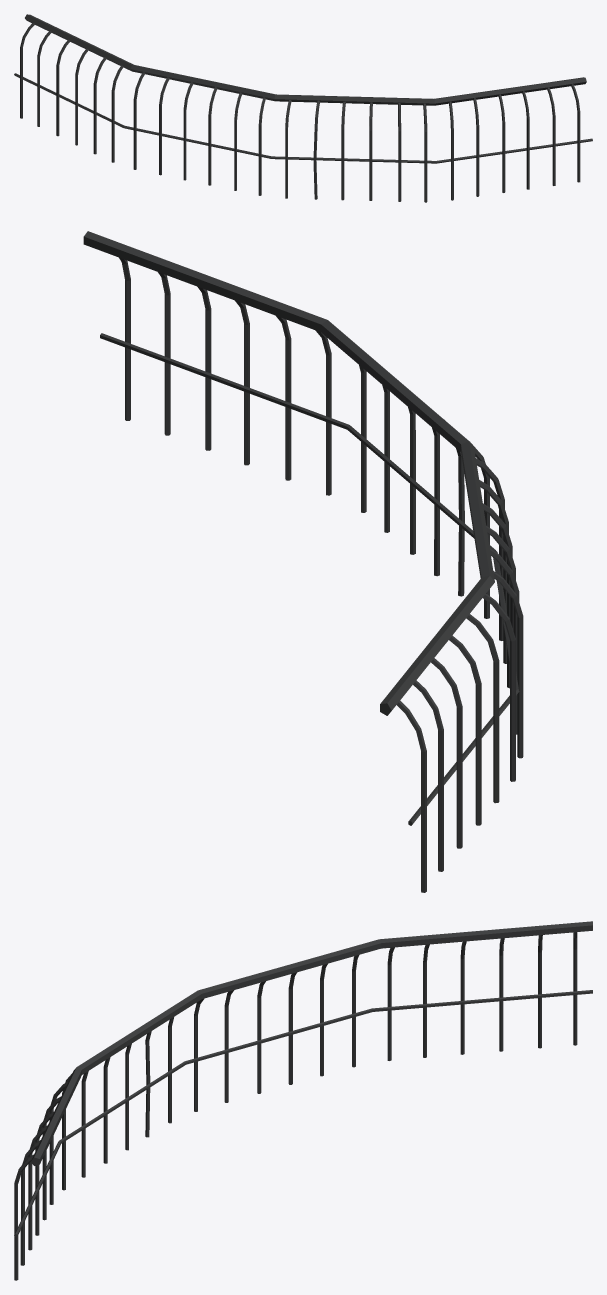
The model's file is SM_Envr_Seawall_Fence_Corner_01.fbx.
The picture shows the model from 3 angles, top to bottom: view 1: azimuth 30°, elevation 25°; view 2: azimuth 150°, elevation 25°; view 3: azimuth 270°, elevation 25°; orthographic projection. The views are drawn at different scales.
Parts seen in each view (by area): view 1: SM_Envr_Seawall_Fence_Corner_01; view 2: SM_Envr_Seawall_Fence_Corner_01; view 3: SM_Envr_Seawall_Fence_Corner_01.
Boxes of the visible parts, <box> form: SM_Envr_Seawall_Fence_Corner_01: <box>14,14,592,202</box>; SM_Envr_Seawall_Fence_Corner_01: <box>83,231,523,892</box>; SM_Envr_Seawall_Fence_Corner_01: <box>14,921,592,1280</box>.
Size of the model in its own units: 498 by 124 by 498.
